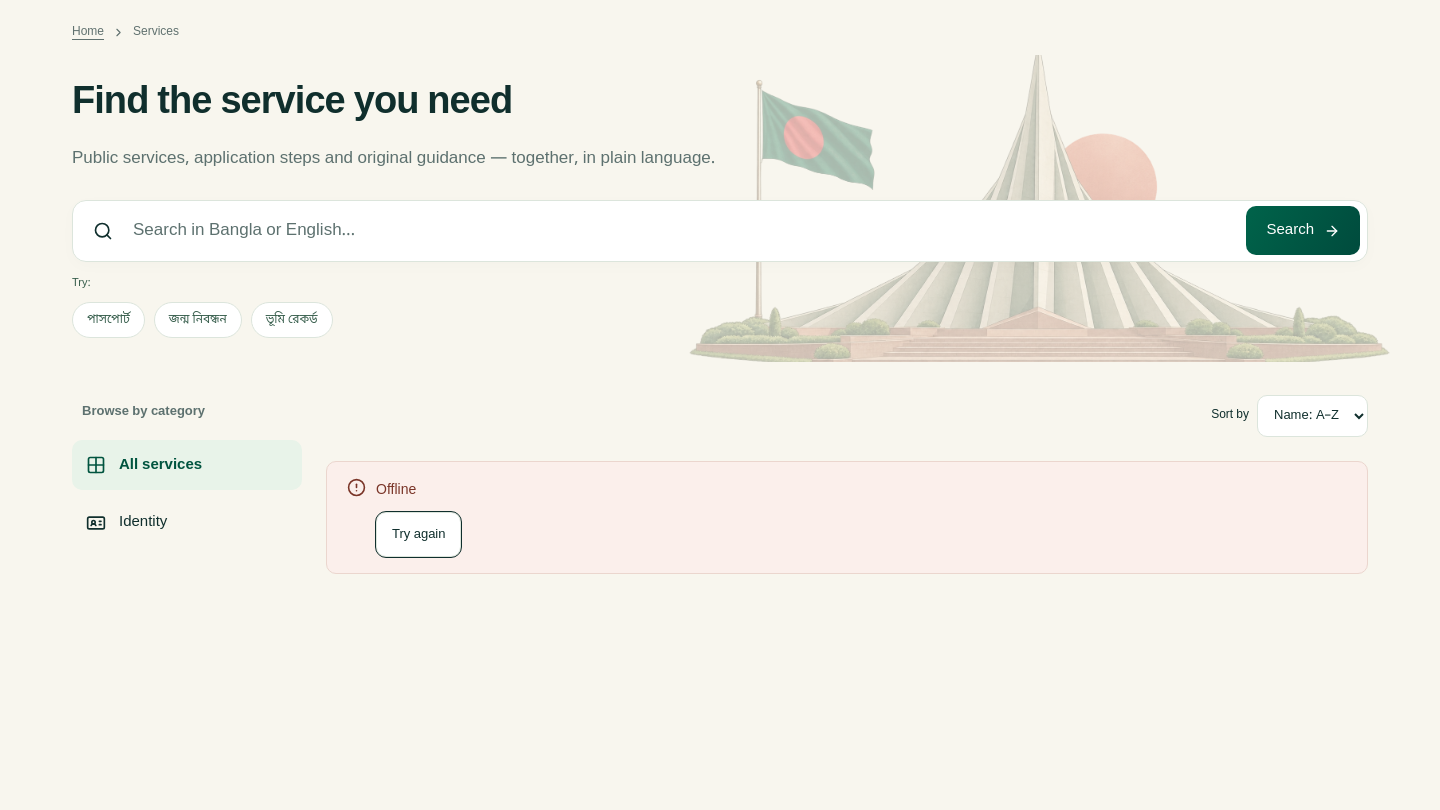
Test: offers a working retry after a directory outage
Expected: the text "Offline" is shown, [376,481,416,500]
What coordinates should you click on to do the following:
click the button "Try again"
I would click on:
 (419, 534)
Its box is [376,512,462,557].
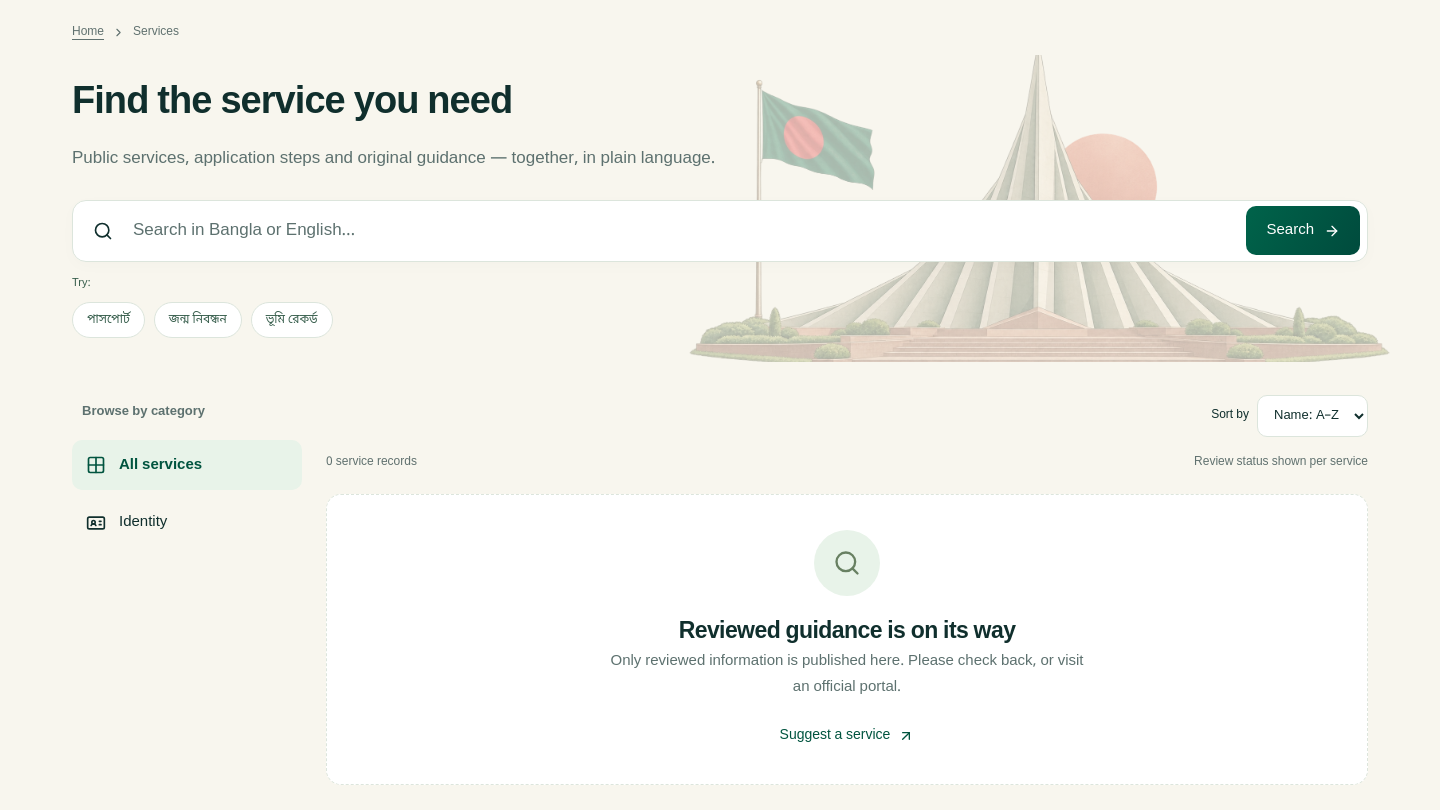
Result: the heading "Reviewed guidance is on its way" is shown at [679,617,1015,647]
